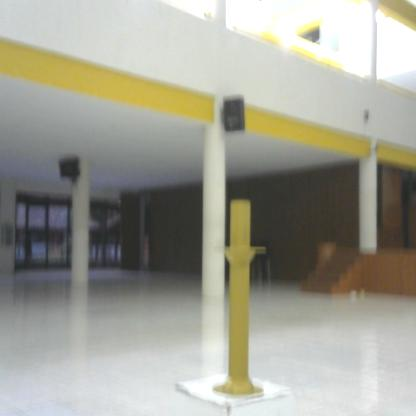pole: (207, 191, 275, 407)
